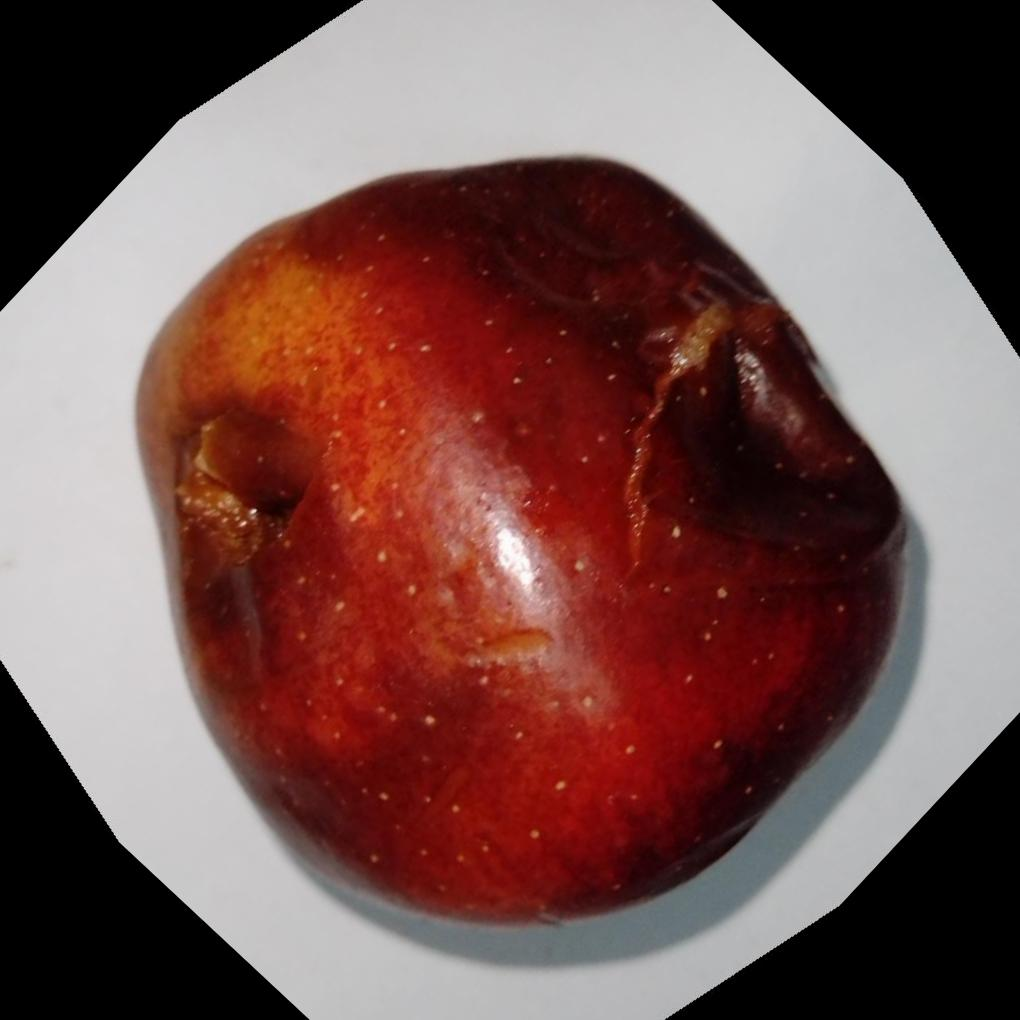FreshOrange: (129, 151, 913, 928)
